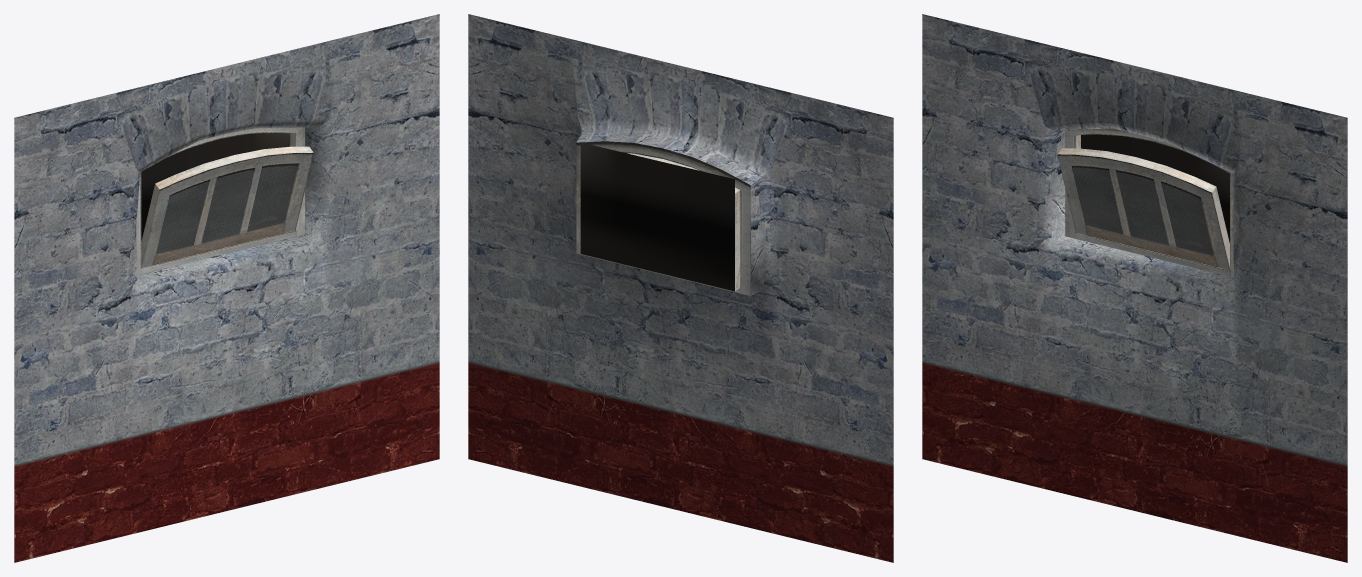
Rendered from factory_corridor_02_open.DAE.
3 renders of one model, left to right at view 1: azimuth 30°, elevation 25°; view 2: azimuth 150°, elevation 25°; view 3: azimuth 330°, elevation 25°, orthographic.
Visible parts, largest first — view 1: Box049, Box050; view 2: Box049, Box050; view 3: Box049, Box050.
Part boxes in pixels (x1,y1,x2,y2): Box049: (14, 14, 439, 562); Box050: (108, 39, 336, 274); Box049: (468, 14, 893, 562); Box050: (571, 39, 799, 295); Box049: (922, 14, 1347, 562); Box050: (1016, 37, 1244, 277).
Bounding box in the file's own units: 4 × 4 × 0.4215.
